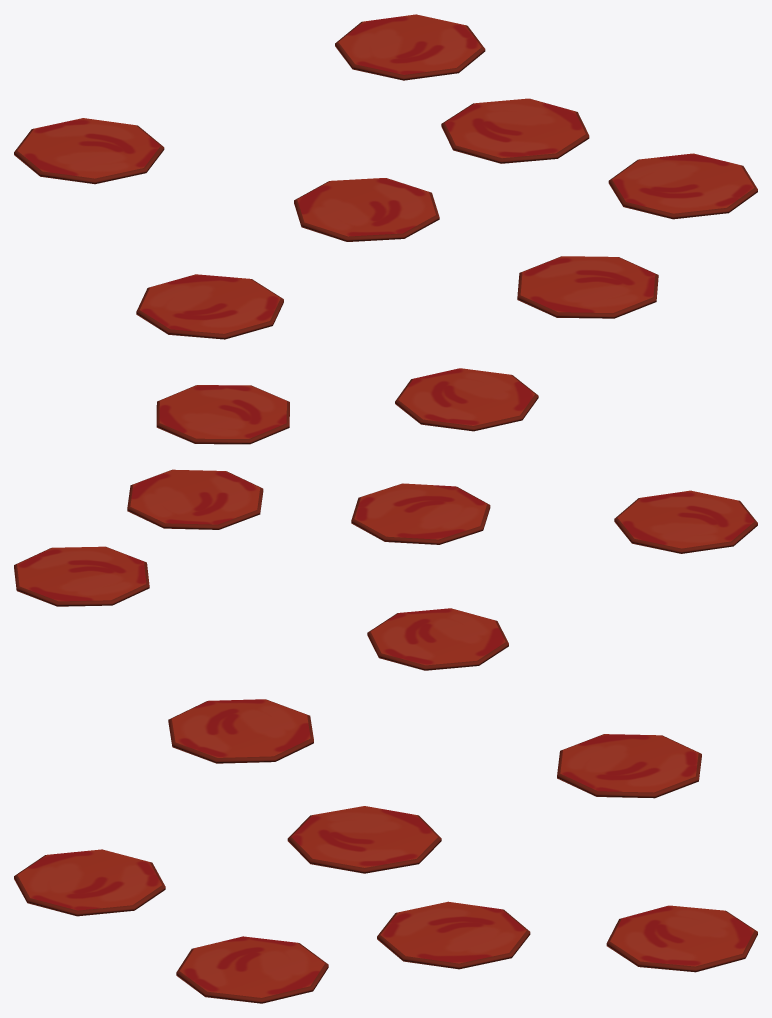
File: pepperoni_pizza.fbx
3 views of the same model, one above another, from view 1: azimuth 30°, elevation 25°; view 2: azimuth 150°, elevation 25°; view 3: azimuth 270°, elevation 25° (orthographic). The views are drawn at different scales.
Visible parts, largest first — view 1: pepperoni_pizza; view 2: pepperoni_pizza; view 3: pepperoni_pizza.
Boxes of the visible parts, <box> form: pepperoni_pizza: <box>14,14,757,339</box>; pepperoni_pizza: <box>14,368,757,670</box>; pepperoni_pizza: <box>14,699,757,1003</box>.
Bounding box in the file's own units: 1869 × 16.86 × 1950.
